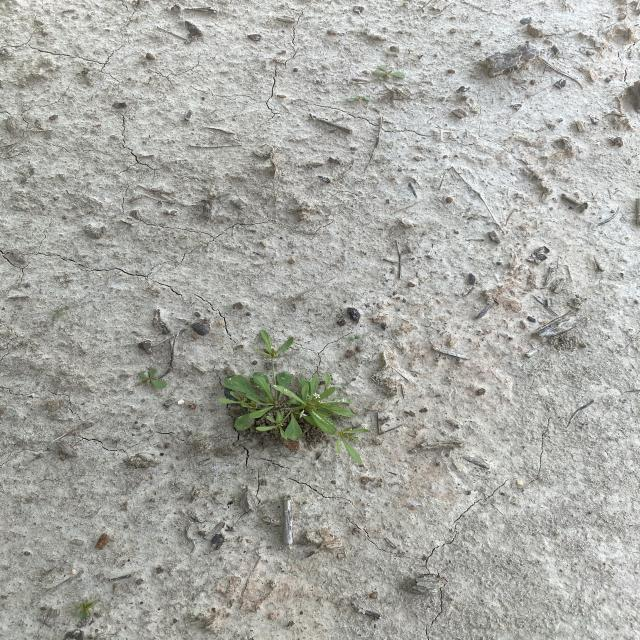Carpetweed: (215, 328, 372, 466)
